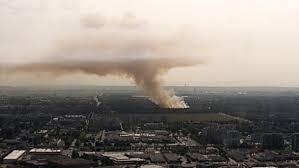smoke: (0, 54, 213, 108)
